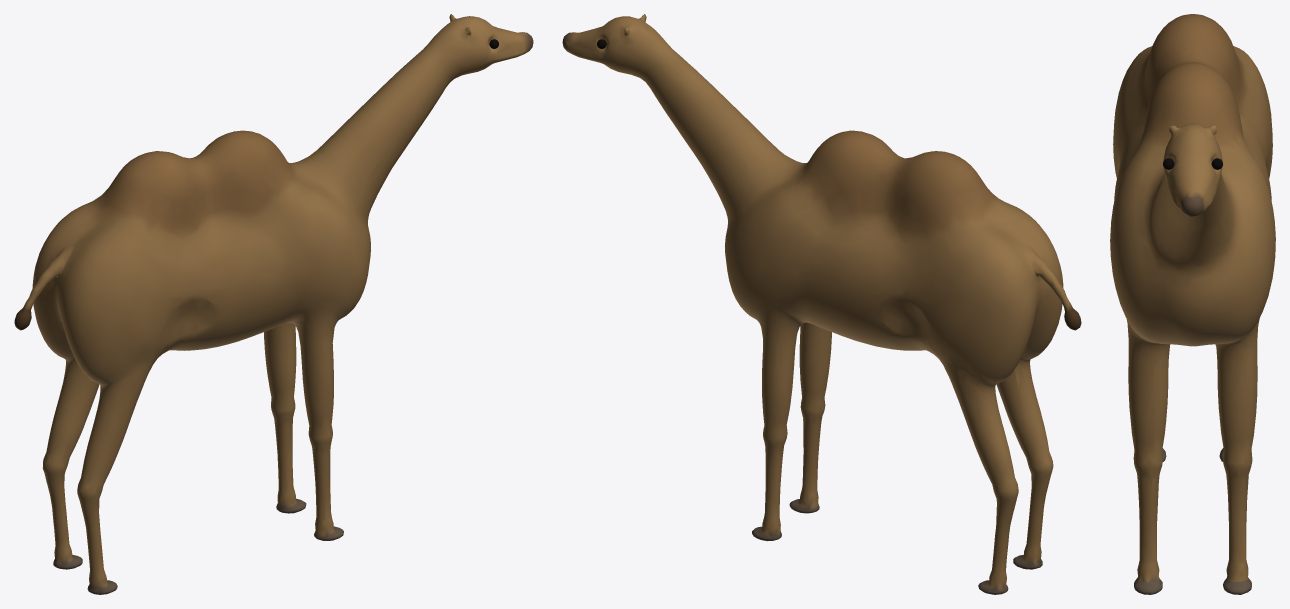
File: camel.glb
3 renders of one model, left to right at view 1: azimuth 30°, elevation 25°; view 2: azimuth 150°, elevation 25°; view 3: azimuth 270°, elevation 25°, orthographic. The views are drawn at different scales.
Visible parts, largest first — view 1: camel; view 2: camel; view 3: camel.
Part boxes in pixels (x1,y1,x2,y2): camel: (14,14,533,594); camel: (562,14,1081,594); camel: (1110,14,1275,594).
Bounding box in the file's own units: 2.84 × 2.46 × 0.6687.
